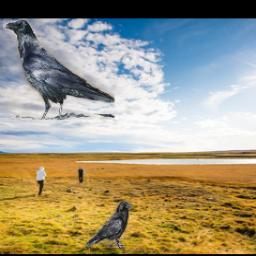Crow: (3, 18, 115, 120), (85, 202, 132, 249)
